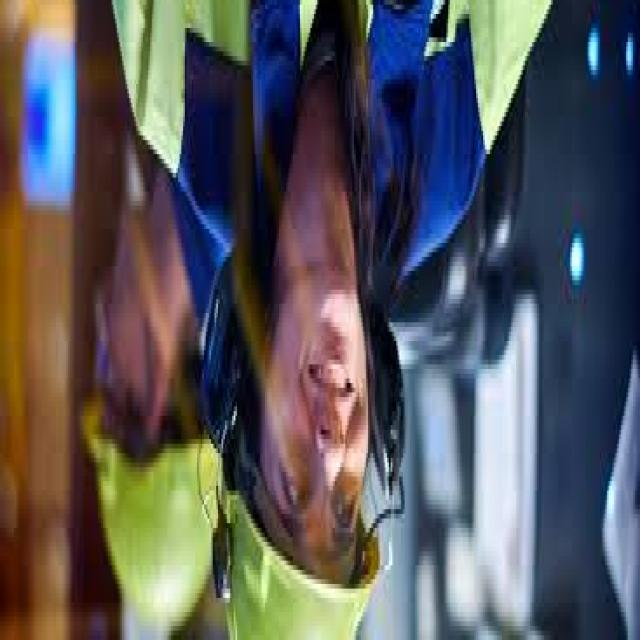Ear-Protection: (197, 243, 265, 495), (368, 290, 405, 523)
Helmet: (216, 476, 384, 640)
